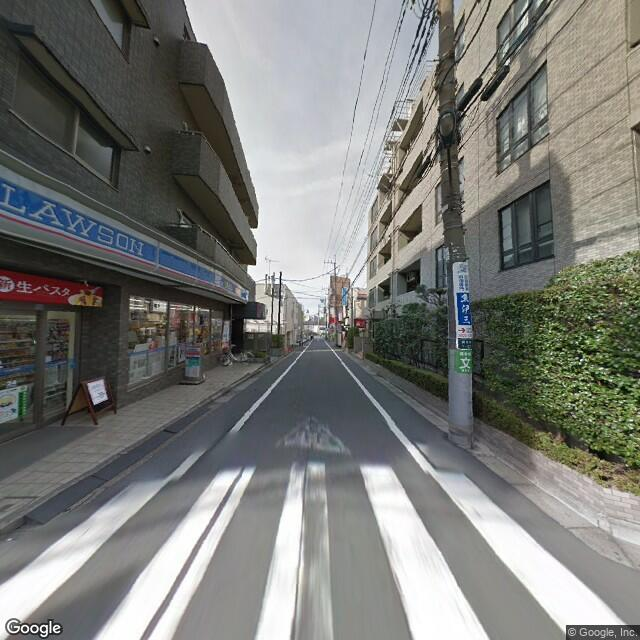lawson: (1, 161, 252, 304)
